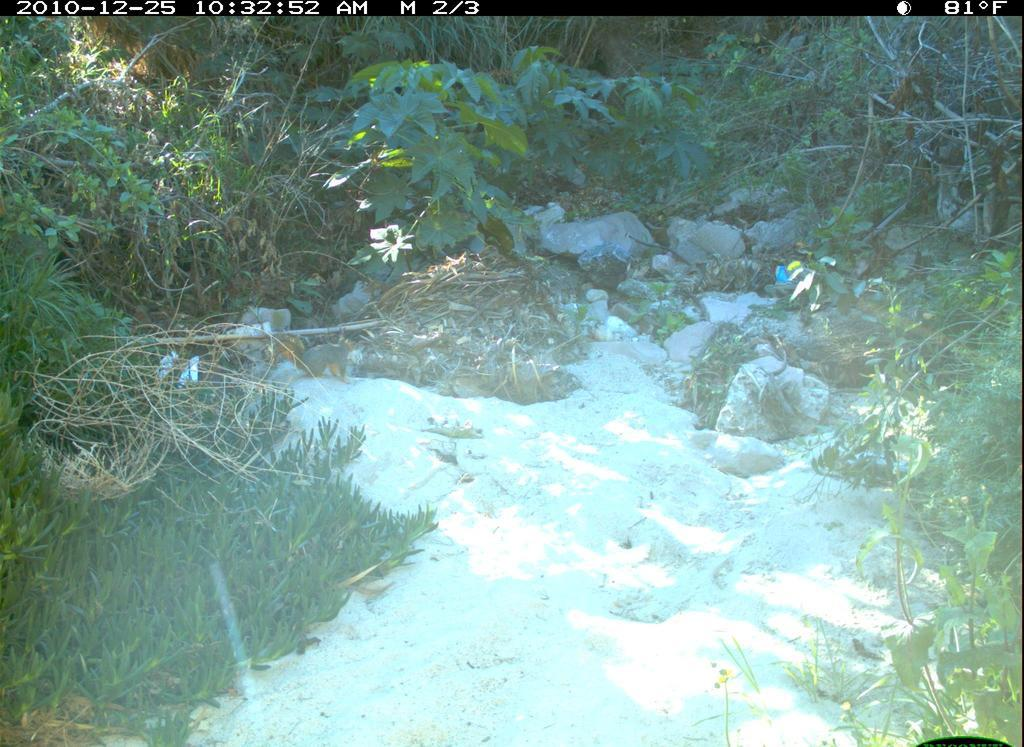squirrel: (262, 315, 370, 393)
